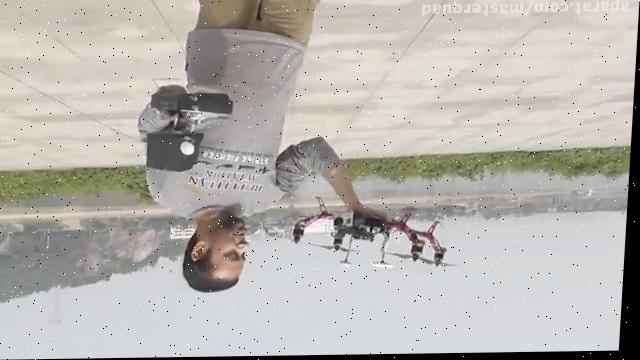drone: (287, 195, 466, 278)
